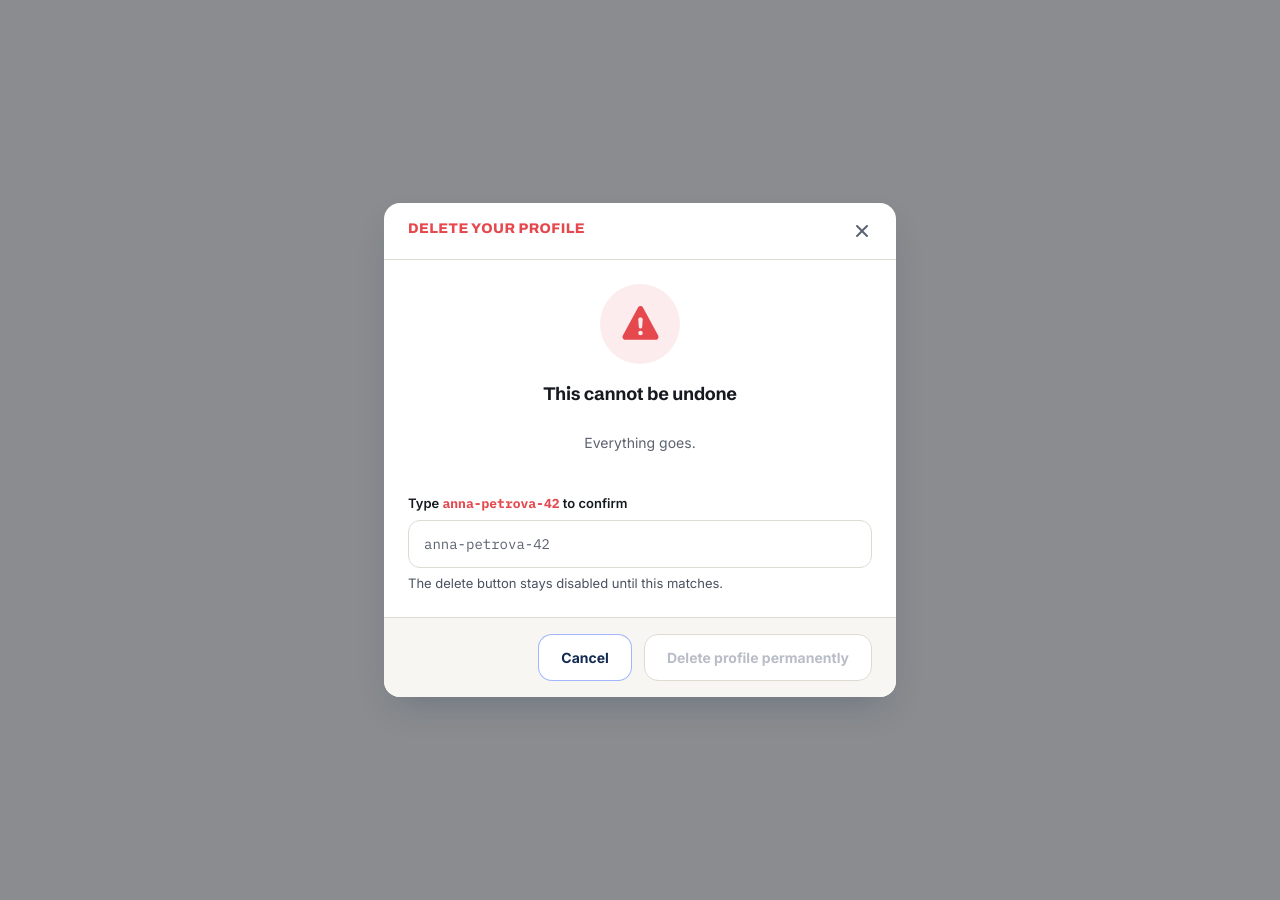
DeleteProfileDialog › accepts the username in any case, with surrounding whitespace
This screenshot has width=1280, height=900.
Type "  ANNA-Petrova-42  " into the field labelled "Type anna-petrova-42 to confirm". click: (640, 544)
box: [408,520,872,568]
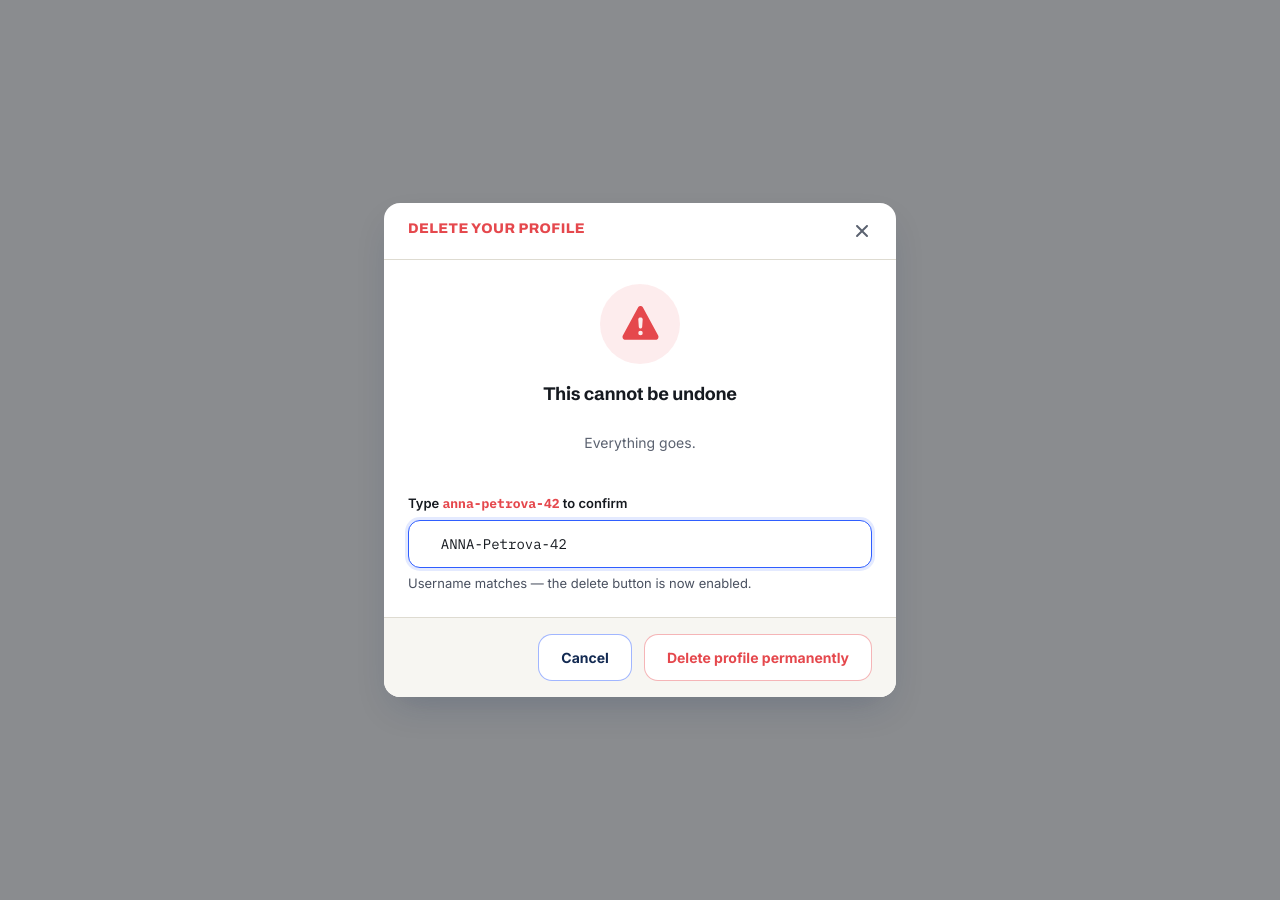
Expected: the button "Delete profile permanently" is enabled, [644,634,872,681]
